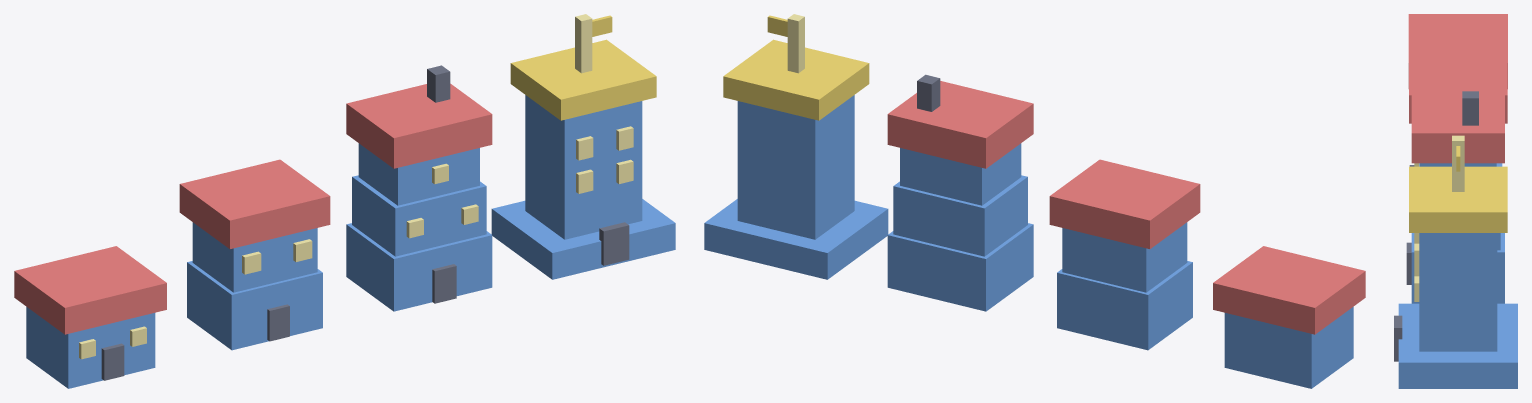
Rendered from house.gltf.
3 views of the same model, side by side, from view 1: azimuth 30°, elevation 25°; view 2: azimuth 150°, elevation 25°; view 3: azimuth 270°, elevation 25° (orthographic).
Parts seen in each view (by area): view 1: Roof (×3), L1 (×2), Tower, L2 (×2), Crown, Podium, Walls, L3, Door (×4), Spire, Chimney; view 2: Roof (×3), L1 (×2), Tower, L2 (×2), Podium, Crown, Walls, L3, Spire, Chimney; view 3: Roof (×3), Tower, Podium, Crown, L1, Spire, Chimney, Door (×2), L3, W4, W2, Flag.
Boxes of the visible parts, x1,y1,x2,y2 form: Roof (×3): (14,83,492,334); L1 (×2): (187,223,492,350); Tower: (525,95,642,239); L2 (×2): (192,175,486,292); Crown: (510,39,656,120); Podium: (491,199,675,279); Walls: (26,307,155,388); L3: (358,143,479,205); Door (×4): (101,222,629,380); Spire: (575,14,592,73); Chimney: (427,65,450,102); Roof (×3): (887,81,1365,334); L1 (×2): (887,223,1192,350); Tower: (737,95,854,239); L2 (×2): (893,175,1187,292); Podium: (704,199,888,279); Crown: (723,39,869,120); Walls: (1224,307,1353,388); L3: (900,143,1021,205); Spire: (787,14,804,73); Chimney: (917,74,940,111); Roof (×3): (1408,14,1507,163); Tower: (1419,233,1497,351); Podium: (1398,303,1517,388); Crown: (1409,166,1507,232); L1: (1411,233,1504,303); Spire: (1452,135,1464,191); Chimney: (1462,91,1478,125); Door (×2): (1394,242,1411,361); L3: (1420,163,1496,166); W4: (1414,243,1419,269); W2: (1414,276,1419,301); Flag: (1456,146,1460,171).
Bounding box in the file's own units: 6.64 × 2.36 × 1.19.
